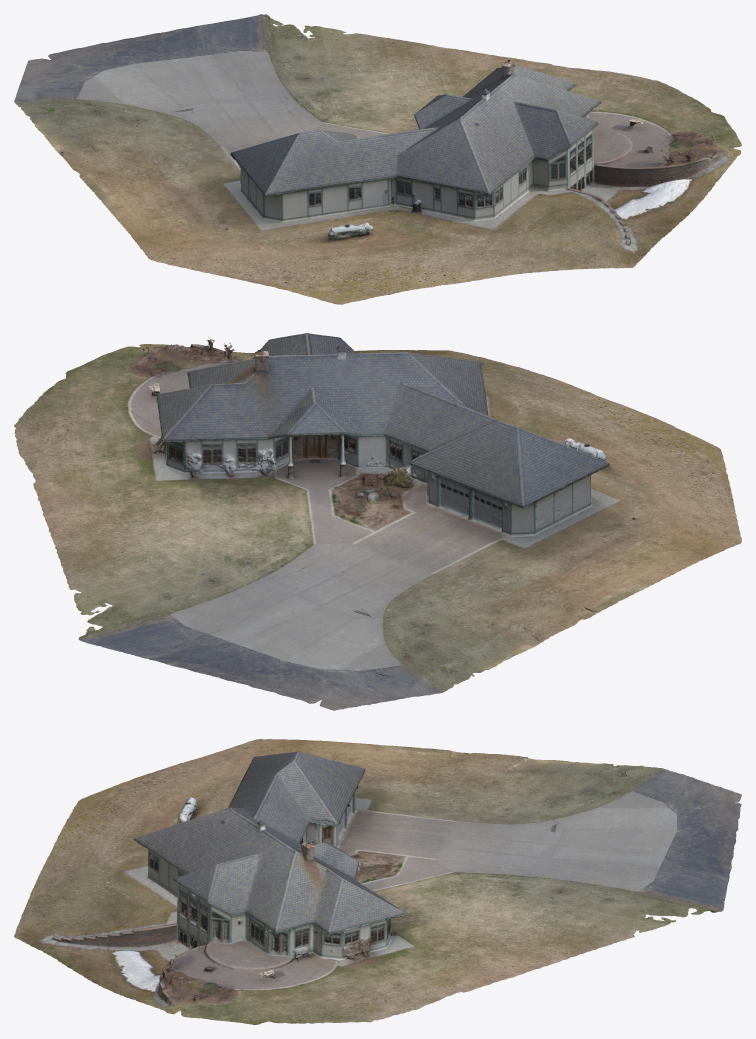
Rendered from real_estate_listing_3d_model_example.glb.
3 views of the same model, one above another, from view 1: azimuth 30°, elevation 25°; view 2: azimuth 150°, elevation 25°; view 3: azimuth 270°, elevation 25° (orthographic). The views are drawn at different scales.
Parts seen in each view (by area): view 1: Object_4, Object_3, Object_2, Object_5; view 2: Object_4, Object_2, Object_3, Object_5; view 3: Object_4, Object_3, Object_2, Object_5.
Boxes of the visible parts, bbox=[...] form: Object_4: bbox=[23, 14, 723, 304]; Object_3: bbox=[178, 27, 702, 298]; Object_2: bbox=[14, 57, 741, 268]; Object_5: bbox=[17, 63, 731, 240]; Object_4: bbox=[38, 342, 741, 703]; Object_2: bbox=[14, 333, 622, 710]; Object_3: bbox=[15, 333, 714, 612]; Object_5: bbox=[79, 339, 460, 700]; Object_4: bbox=[28, 739, 741, 1003]; Object_3: bbox=[25, 751, 671, 1010]; Object_2: bbox=[14, 759, 741, 1024]; Object_5: bbox=[53, 765, 731, 1022].
Size of the model in its own units: 30.48 by 5.05 by 32.29.
1 material, 1 textured.
